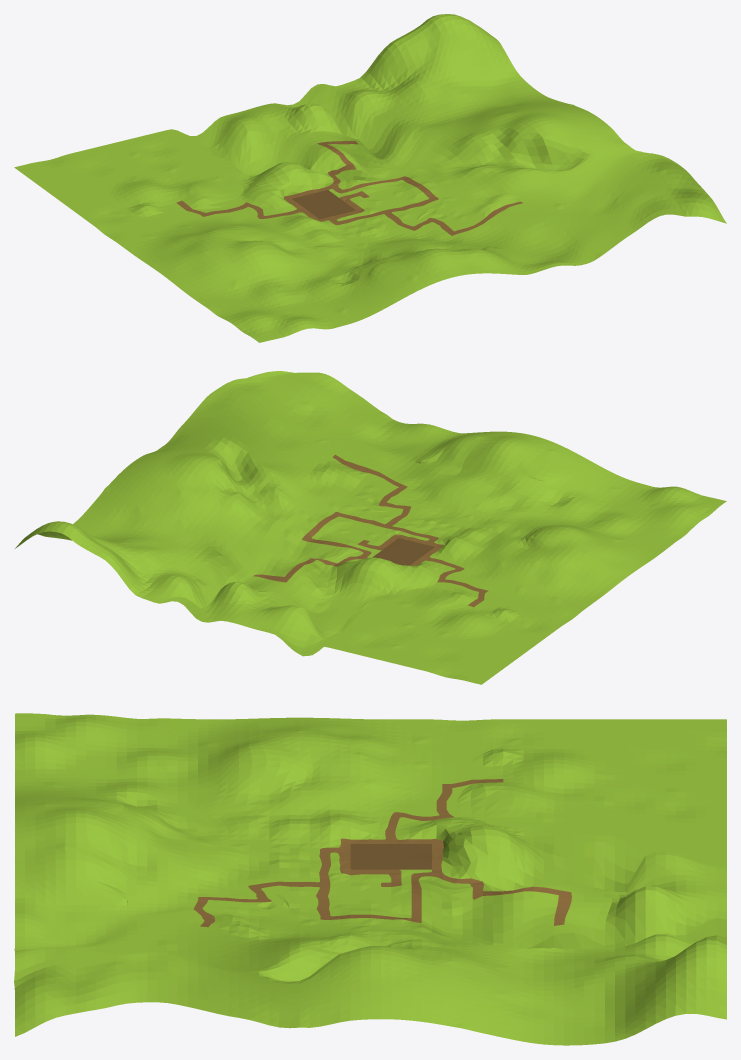
The model's file is Landscape_up.fbx.
3 views of the same model, one above another, from view 1: azimuth 30°, elevation 25°; view 2: azimuth 150°, elevation 25°; view 3: azimuth 270°, elevation 25° (orthographic). The views are drawn at different scales.
Visible parts, largest first — view 1: lanscape_up; view 2: lanscape_up; view 3: lanscape_up.
Part boxes in pixels (x1,y1,x2,y2): lanscape_up: [14, 14, 726, 342]; lanscape_up: [15, 371, 726, 684]; lanscape_up: [14, 713, 726, 1045].
Size of the model in its own units: 15412 by 2542 by 14019.
